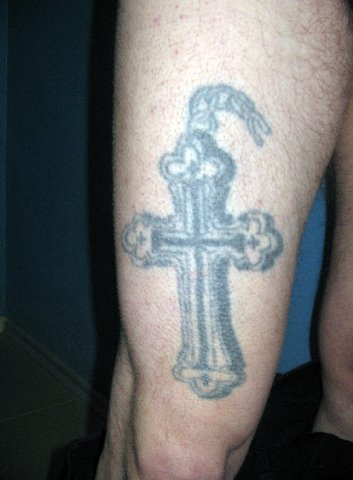tatu9_krest: (120, 128, 282, 398)
